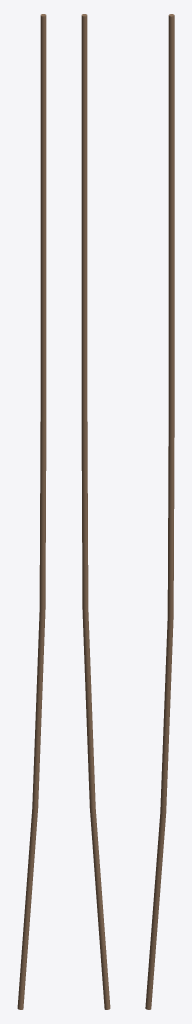
The model's file is Rope_Model_v01.fbx.
3 views of the same model, side by side, from view 1: azimuth 30°, elevation 25°; view 2: azimuth 150°, elevation 25°; view 3: azimuth 330°, elevation 25° (orthographic).
Visible parts, largest first — view 1: pCylinder1; view 2: pCylinder1; view 3: pCylinder1.
Part boxes in pixels (bbox=[...]): pCylinder1: bbox=[17, 14, 46, 1009]; pCylinder1: bbox=[81, 14, 110, 1009]; pCylinder1: bbox=[145, 14, 174, 1009].
Size of the model in its own units: 10.96 by 368 by 2.
1 material, 1 textured.
